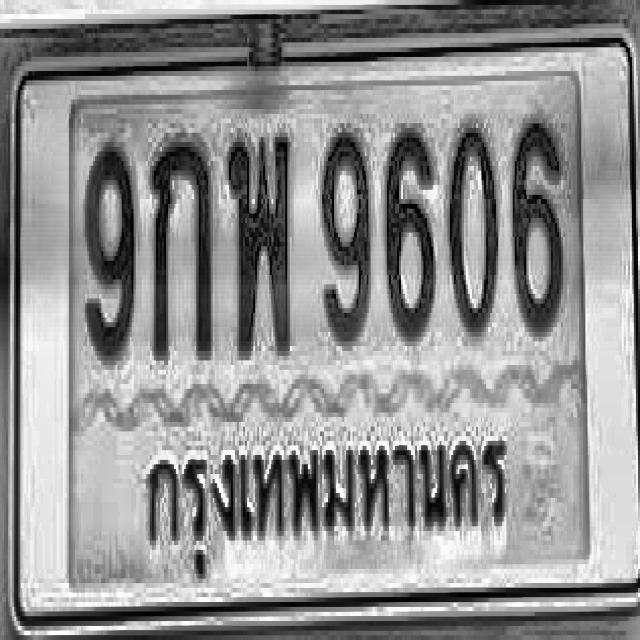license-plate: (13, 33, 640, 640)
